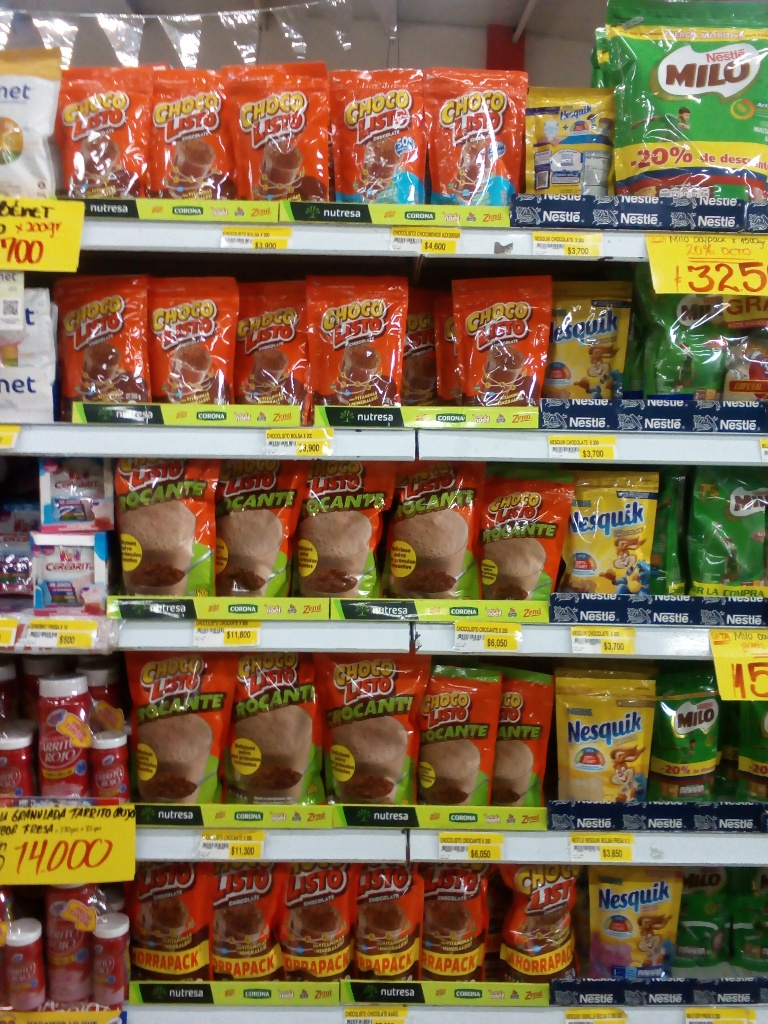COL0170102DYP25000: (422, 659, 495, 809)
COL0170102DYP50000: (110, 451, 219, 606)
COL0170103DYP44000: (129, 858, 212, 988)
COL0170104DYP20000: (416, 59, 530, 215)
COL0170203DYP50000: (633, 256, 720, 424)
COL0170303DYP20000: (566, 464, 660, 617)
COL0170305DYP20000: (588, 863, 682, 989)
COL0170306DYP20000: (549, 666, 654, 826)
